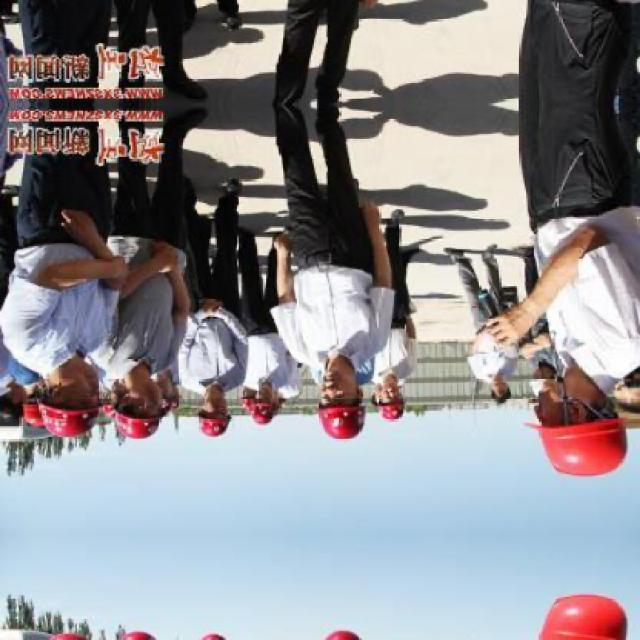con casco: (280, 321, 380, 466), (540, 362, 618, 503), (92, 374, 188, 454), (42, 341, 103, 466), (159, 371, 239, 447), (338, 357, 392, 455), (236, 383, 285, 426)
sin casco: (481, 352, 506, 412)
